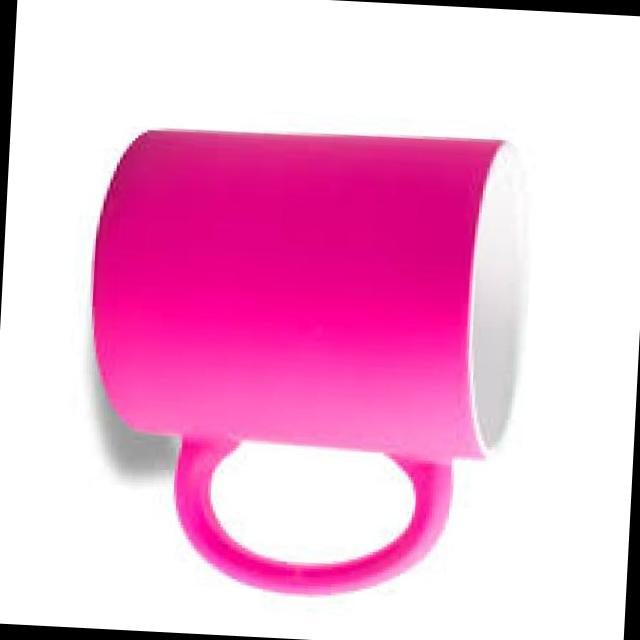Coffee Mug: (72, 119, 539, 606)
